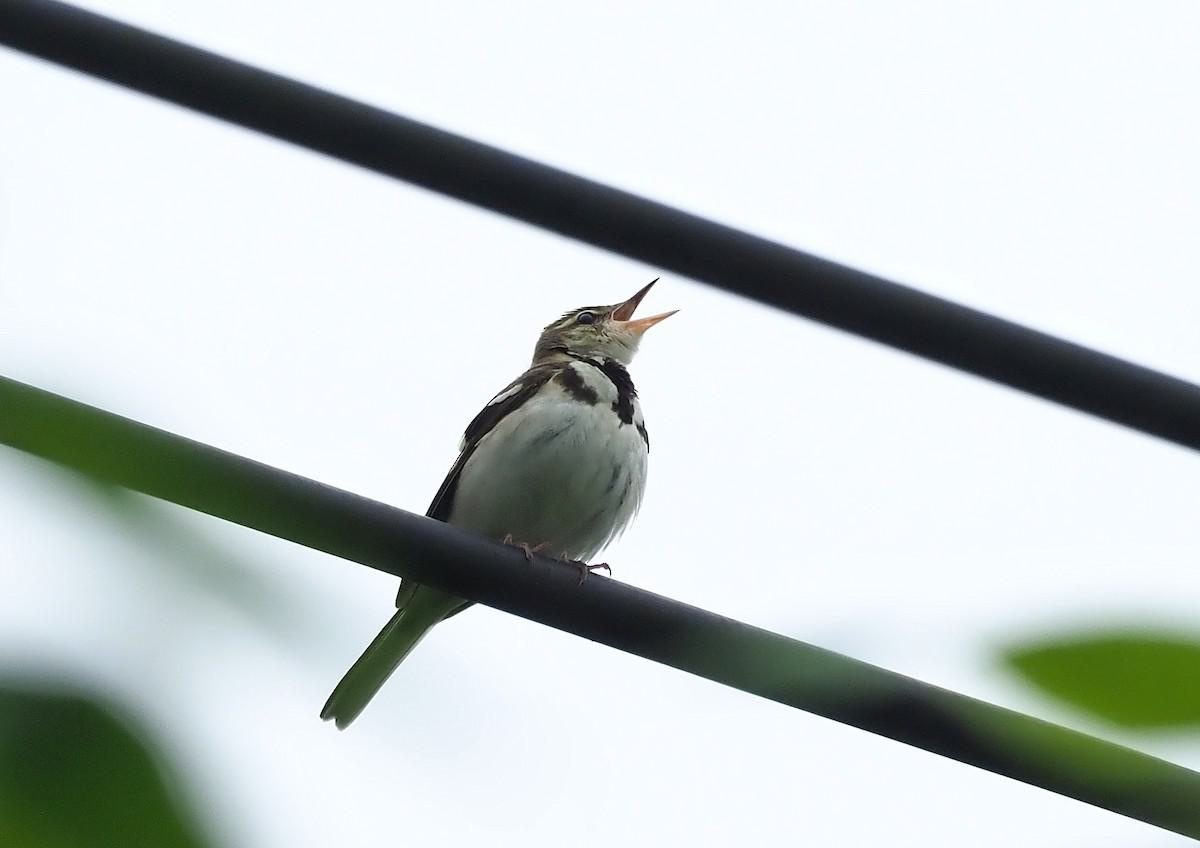wagtail: (323, 270, 684, 688)
